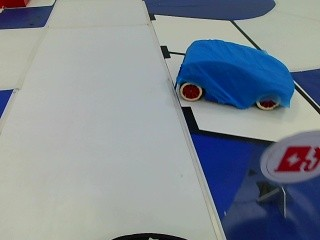battery: (269, 139, 318, 179)
car: (172, 39, 294, 110)
